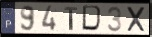3: (107, 5, 123, 32)
4: (41, 5, 58, 32)
9: (19, 5, 36, 32)
D: (81, 5, 105, 33)
T: (64, 6, 79, 31)
X: (126, 6, 147, 33)
